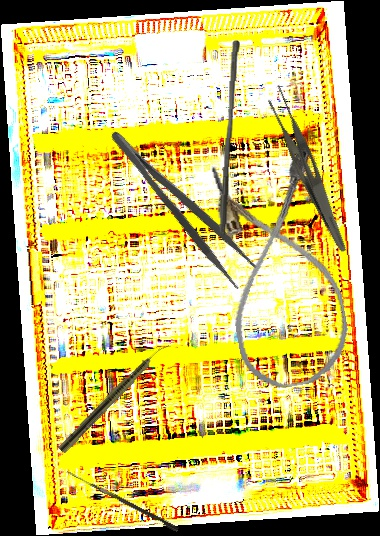Cannula: (207, 145, 356, 395)
Dressing Forceps: (105, 116, 262, 292), (256, 82, 365, 254)
Handpiece: (57, 338, 171, 456)
Hook Surgical: (63, 470, 181, 533)
Pusher: (219, 39, 240, 237)
